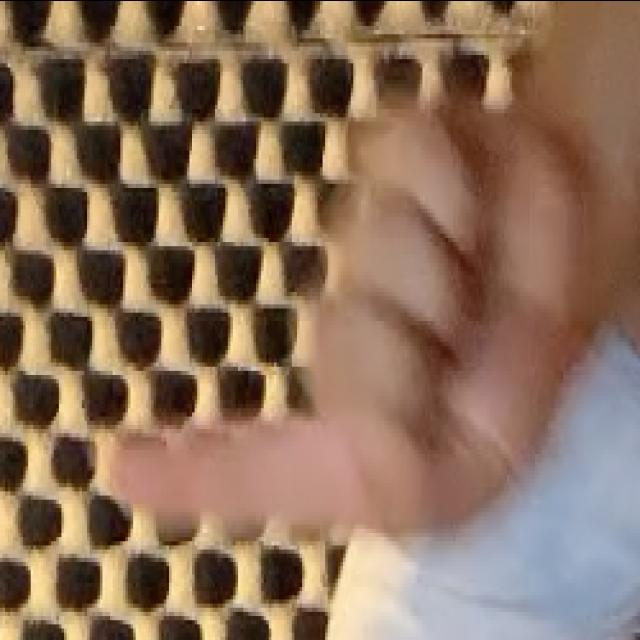Z: (90, 89, 604, 566)
